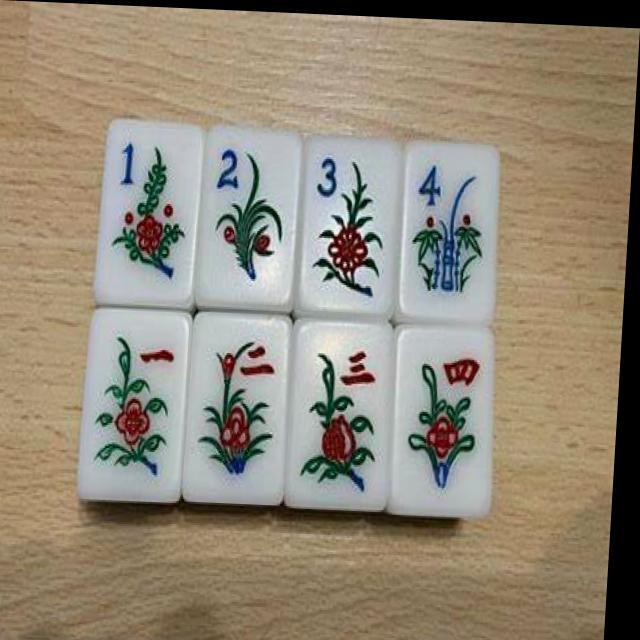f1: (93, 122, 204, 310)
f2: (196, 128, 307, 311)
f3: (294, 137, 407, 318)
f4: (398, 142, 504, 322)
ff1: (80, 306, 195, 501)
ff2: (181, 310, 295, 504)
ff3: (281, 318, 398, 510)
ff4: (389, 323, 502, 516)
